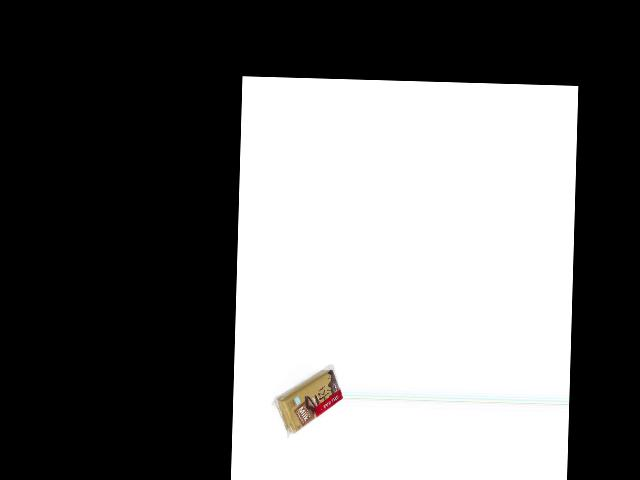chocolate: (273, 366, 342, 442)
